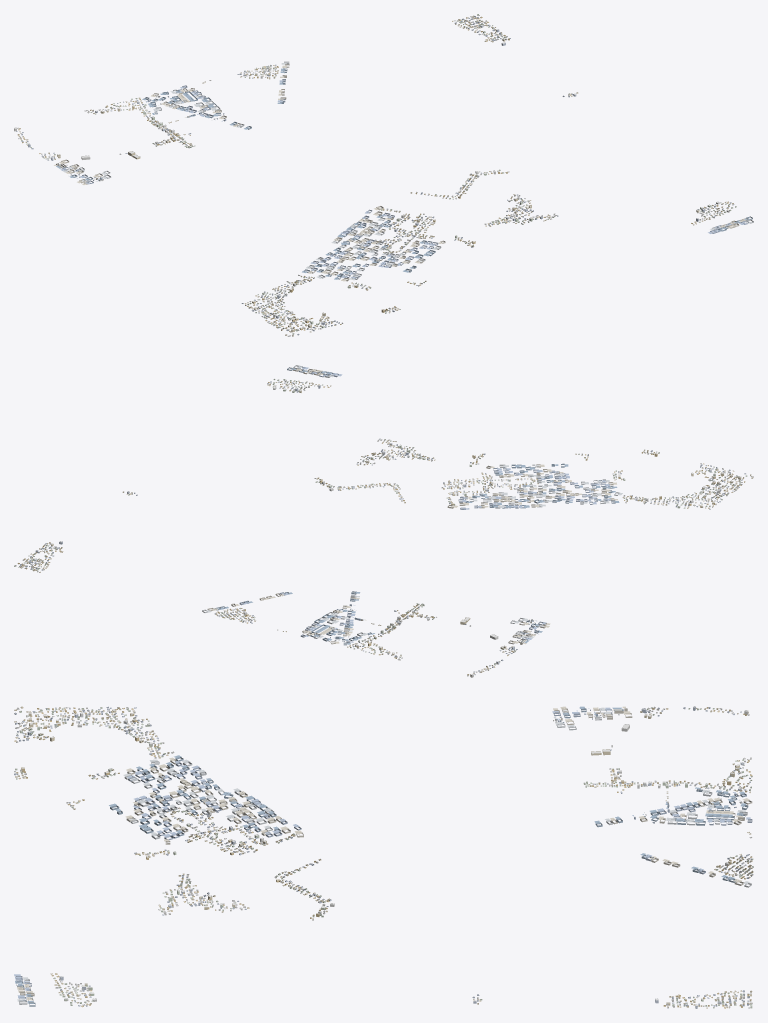
3 views of the same model, one above another, from view 1: azimuth 30°, elevation 25°; view 2: azimuth 150°, elevation 25°; view 3: azimuth 270°, elevation 25° (orthographic). The views are drawn at different scales.
Visible parts, largest first — view 1: house, roof_zinc, factory, apartment; view 2: house, roof_zinc, factory, apartment; view 3: house, factory, roof_zinc, apartment, roof_flat.
Part boxes in pixels (x1,y1,x2,y2): house: (16, 14, 736, 336); roof_zinc: (17, 16, 750, 334); factory: (56, 61, 753, 281); apartment: (14, 25, 729, 332); house: (14, 379, 753, 676); roof_zinc: (19, 365, 752, 676); factory: (202, 365, 619, 645); apartment: (35, 380, 741, 677); house: (14, 706, 753, 1008); factory: (15, 708, 752, 1006); roof_zinc: (14, 706, 752, 1008); apartment: (19, 706, 748, 1008); roof_flat: (20, 706, 747, 1005).
Size of the model in its own units: 1.4e+08 by 732517 by 1.45e+08.
